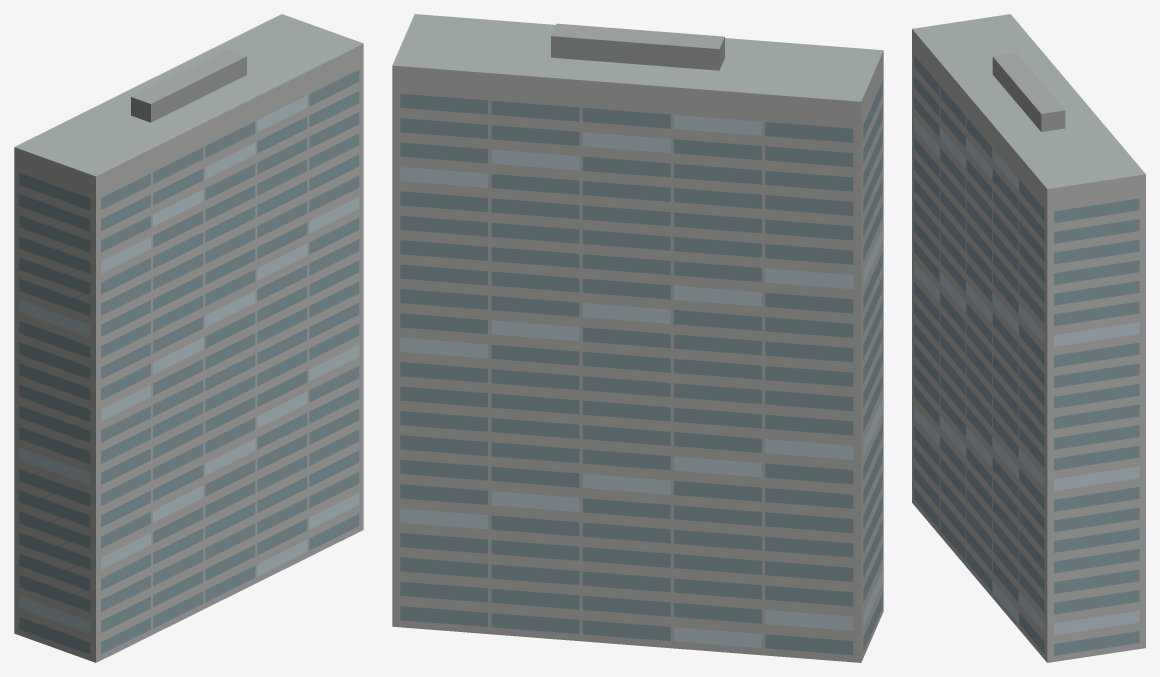
File: fallback-songpa-helio-city-503.glb
3 renders of one model, left to right at view 1: azimuth 30°, elevation 25°; view 2: azimuth 150°, elevation 25°; view 3: azimuth 270°, elevation 25°, orthographic. The views are drawn at different scales.
Parts seen in each view (by area): view 1: fallback-songpa-helio-city-503; view 2: fallback-songpa-helio-city-503; view 3: fallback-songpa-helio-city-503.
Part boxes in pixels (left/top/right/bottom): fallback-songpa-helio-city-503: left=14, top=14, right=363, bottom=662; fallback-songpa-helio-city-503: left=392, top=14, right=883, bottom=662; fallback-songpa-helio-city-503: left=912, top=14, right=1145, bottom=662.
Bounding box in the file's own units: 49.62 × 65 × 28.01.
